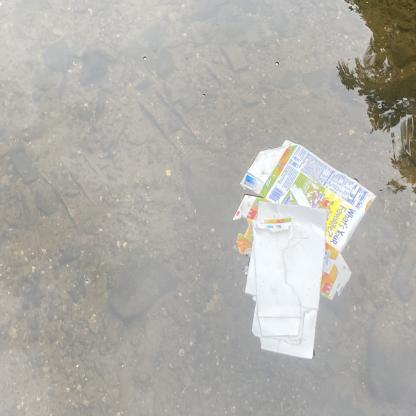trash: (233, 136, 379, 306), (242, 194, 332, 370)
